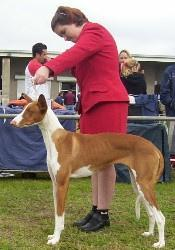Ibizan_hound: (7, 92, 167, 248)
